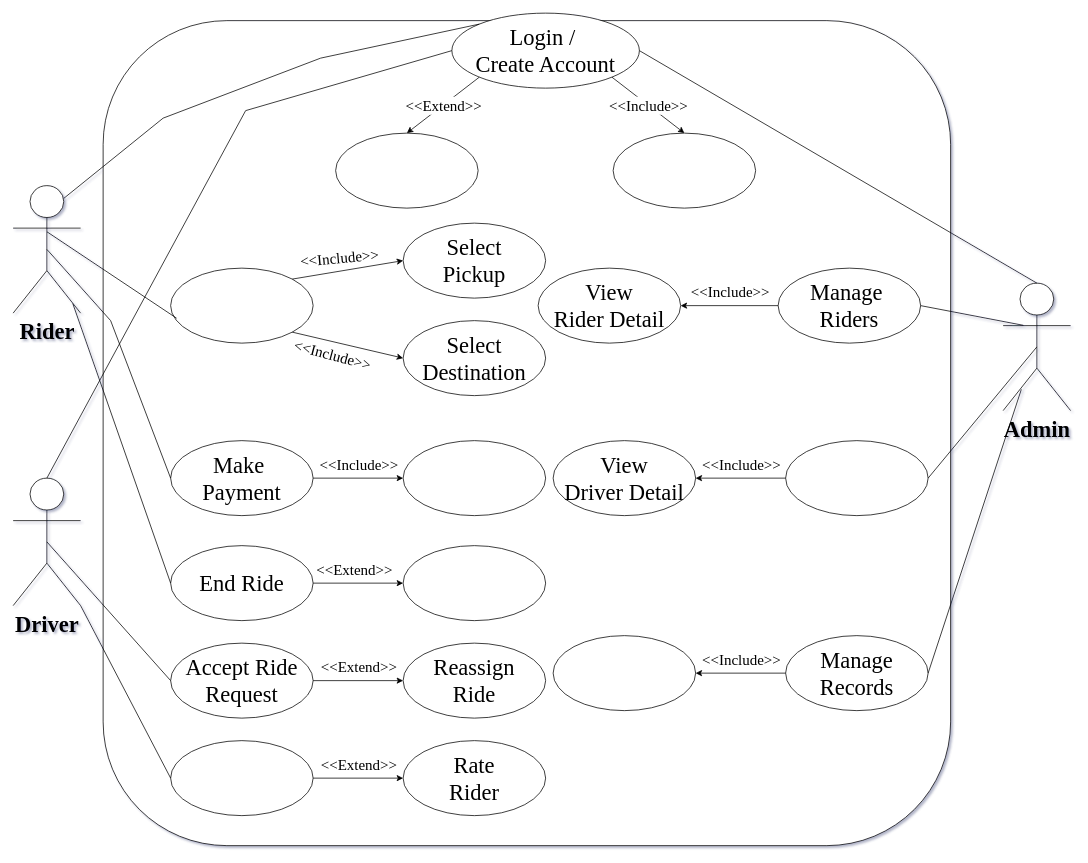
The diagram is 1088 pixels wide and 863 high, and some of its shapes have lost their labels. The centre of each missing label's shape, as x and y in pixels:
"Forgot Password" goes at point 406,170.
"Generate invoice" goes at point 474,478.
"Generate Report" goes at point 624,673.
"Get Paid" goes at point 241,778.
"Manage Drivers" goes at point 856,478.
"OTP Verification" goes at point 684,170.
"Rate Driver" goes at point 474,583.
"Request Ride" goes at point 241,305.
